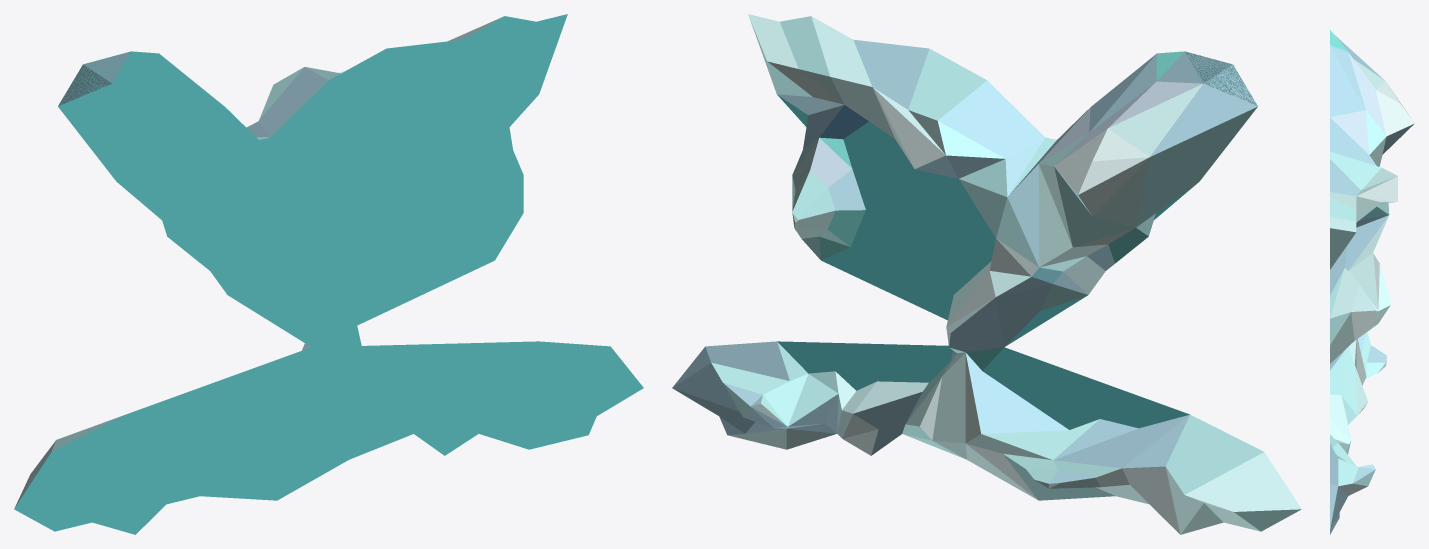
Rendered from winter_mountain_2.fbx.
The picture shows the model from 3 angles, left to right: view 1: azimuth 30°, elevation 25°; view 2: azimuth 150°, elevation 25°; view 3: azimuth 270°, elevation 25°; orthographic projection. The views are drawn at different scales.
Visible parts, largest first — view 1: winter_mountain_2; view 2: winter_mountain_2; view 3: winter_mountain_2.
Part boxes in pixels (x1=…): winter_mountain_2: x1=14, y1=14, x2=643, y2=534; winter_mountain_2: x1=672, y1=14, x2=1301, y2=534; winter_mountain_2: x1=1330, y1=30, x2=1414, y2=534.
Bounding box in the file's own units: 1070 × 805 × 177.
